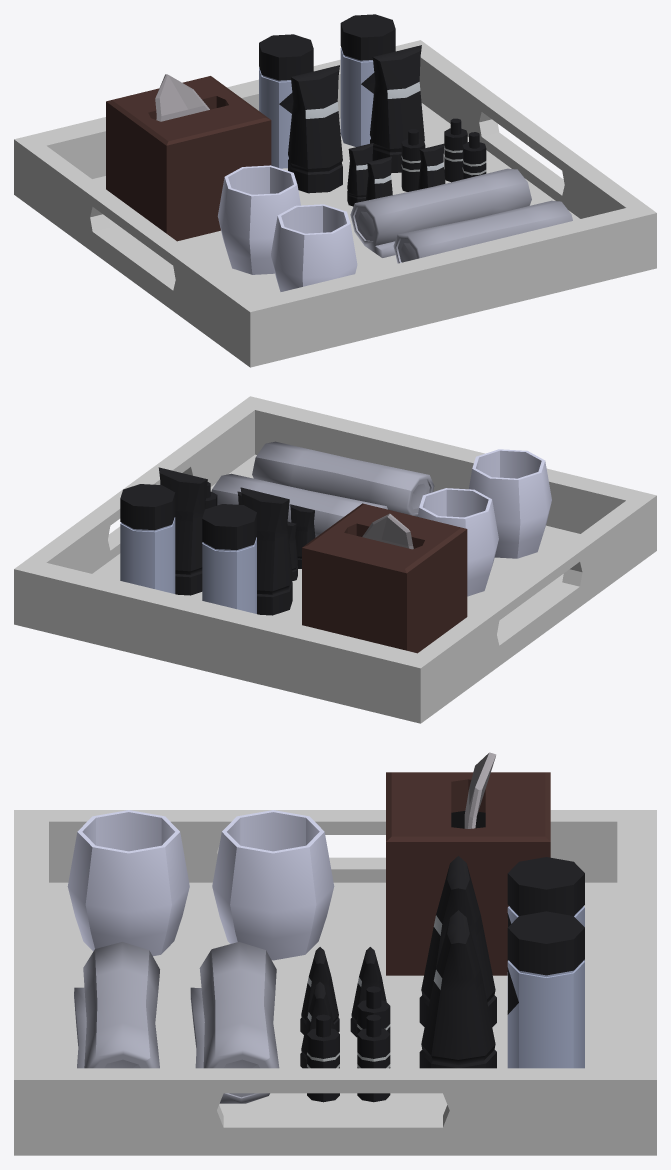
File: Tray-Hotel-Bathroom-Filled_01.fbx
3 views of the same model, one above another, from view 1: azimuth 30°, elevation 25°; view 2: azimuth 150°, elevation 25°; view 3: azimuth 270°, elevation 25° (orthographic). The views are drawn at different scales.
Visible parts, largest first — view 1: Bathroom_Tray_filled; view 2: Bathroom_Tray_filled; view 3: Bathroom_Tray_filled.
Boxes of the visible parts, x1,y1,x2,y2 form: Bathroom_Tray_filled: [14, 14, 656, 367]; Bathroom_Tray_filled: [14, 396, 656, 723]; Bathroom_Tray_filled: [14, 752, 656, 1155].
Bounding box in the file's own units: 0.5317 × 0.1783 × 0.5348.
